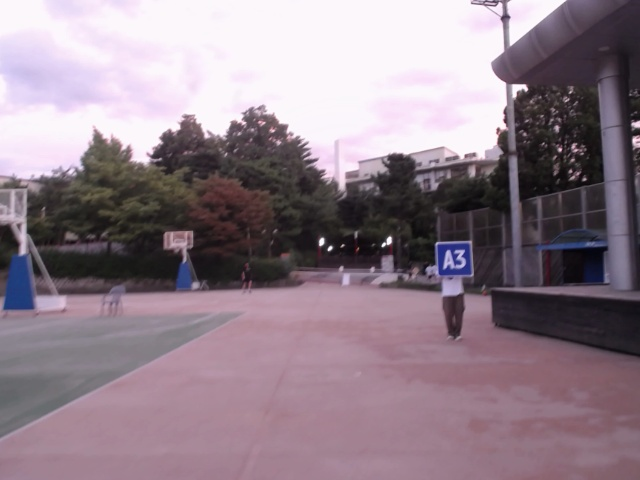delivery_a3: (435, 242, 473, 276)
